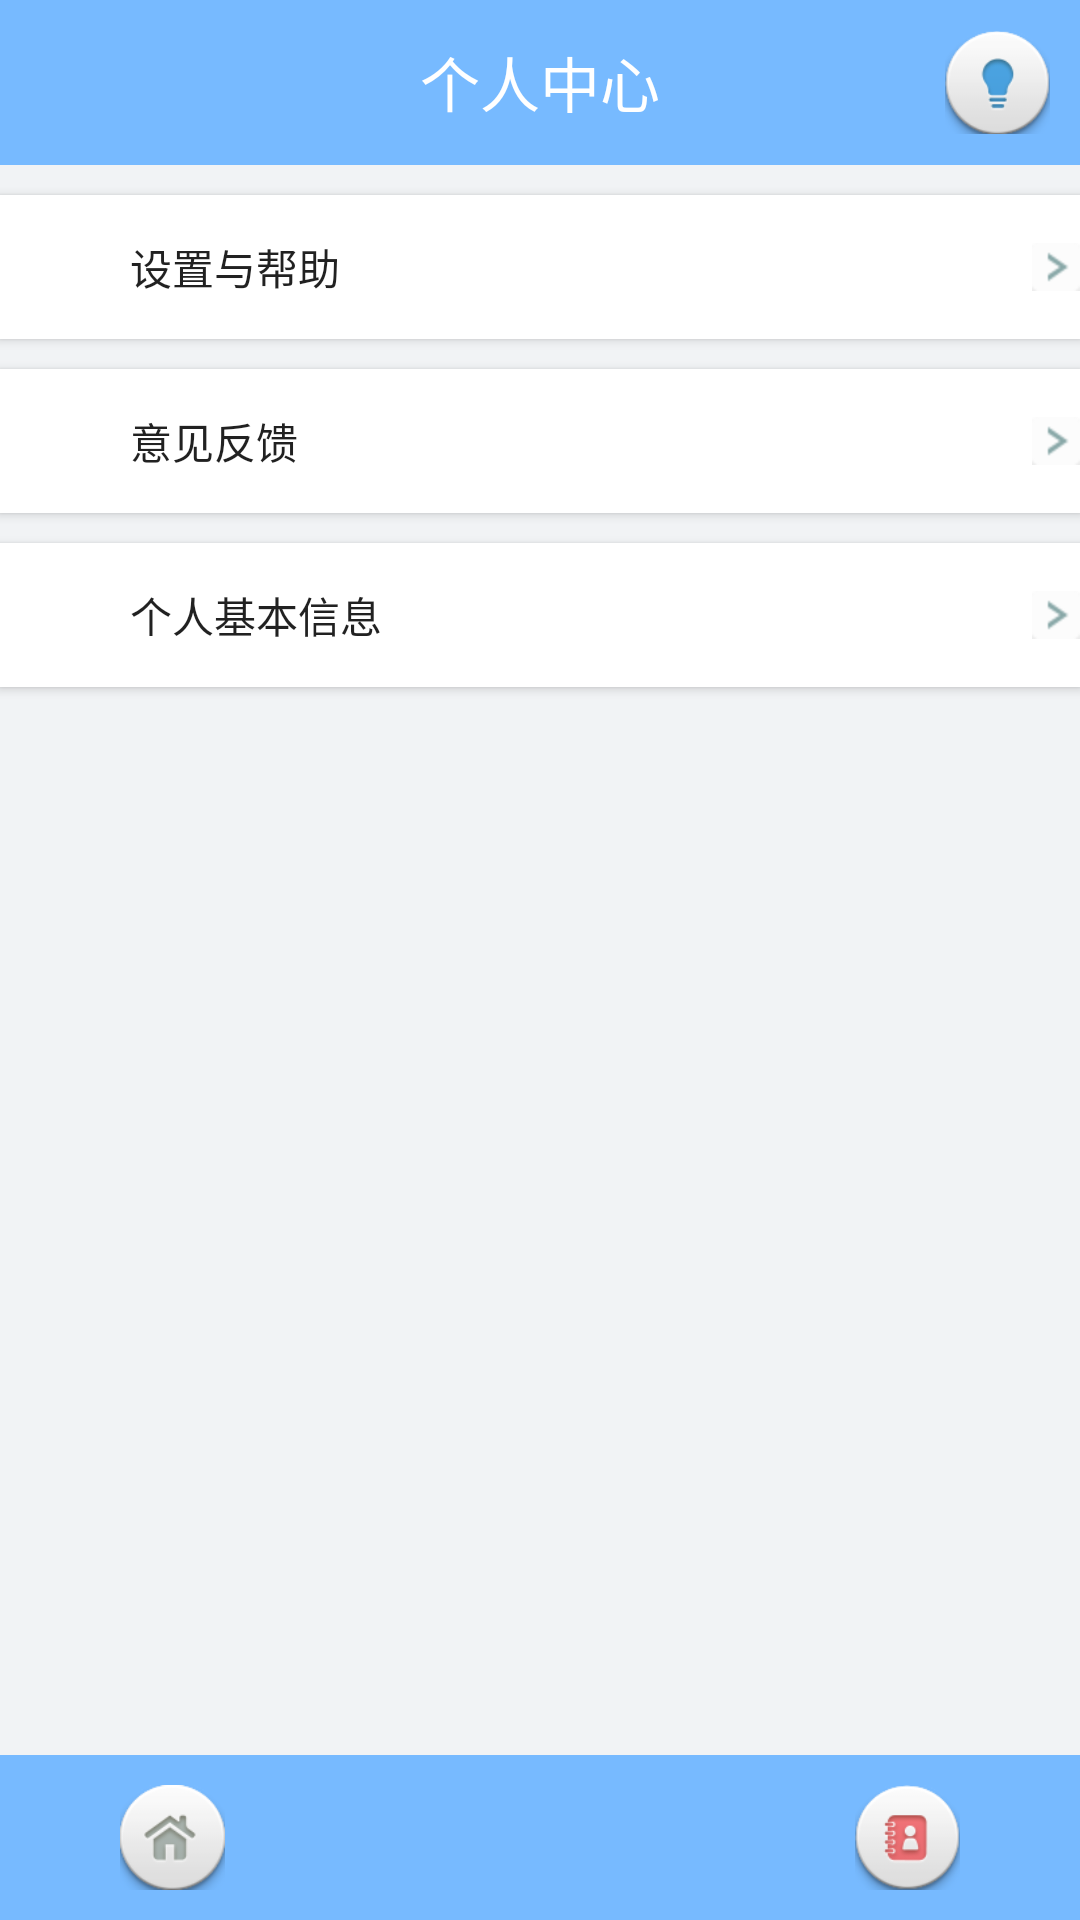

Where to tap for icons on this 1080px×1920px app screen, as [x,y]:
home: [172,1837]
